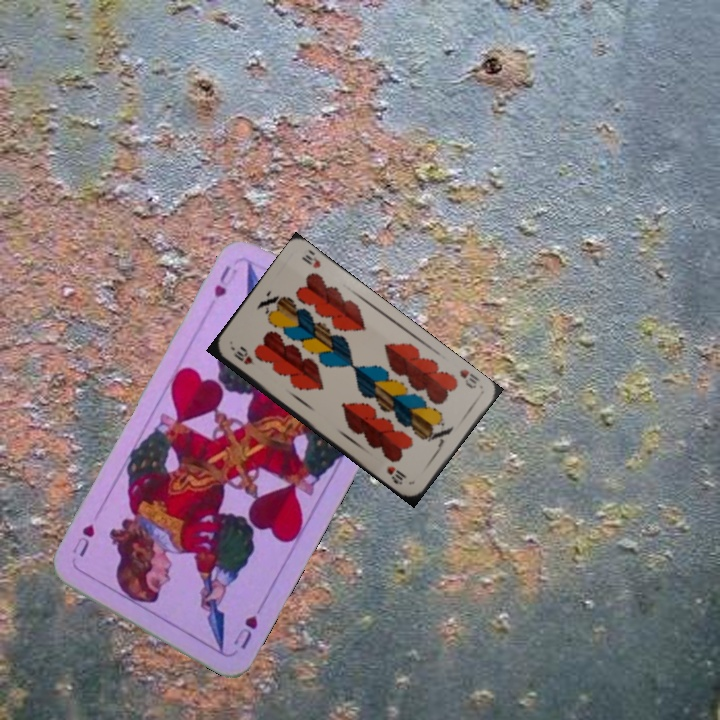H10: (455, 365, 481, 391), (229, 346, 258, 368)
HU: (229, 610, 261, 652), (210, 261, 240, 300)
